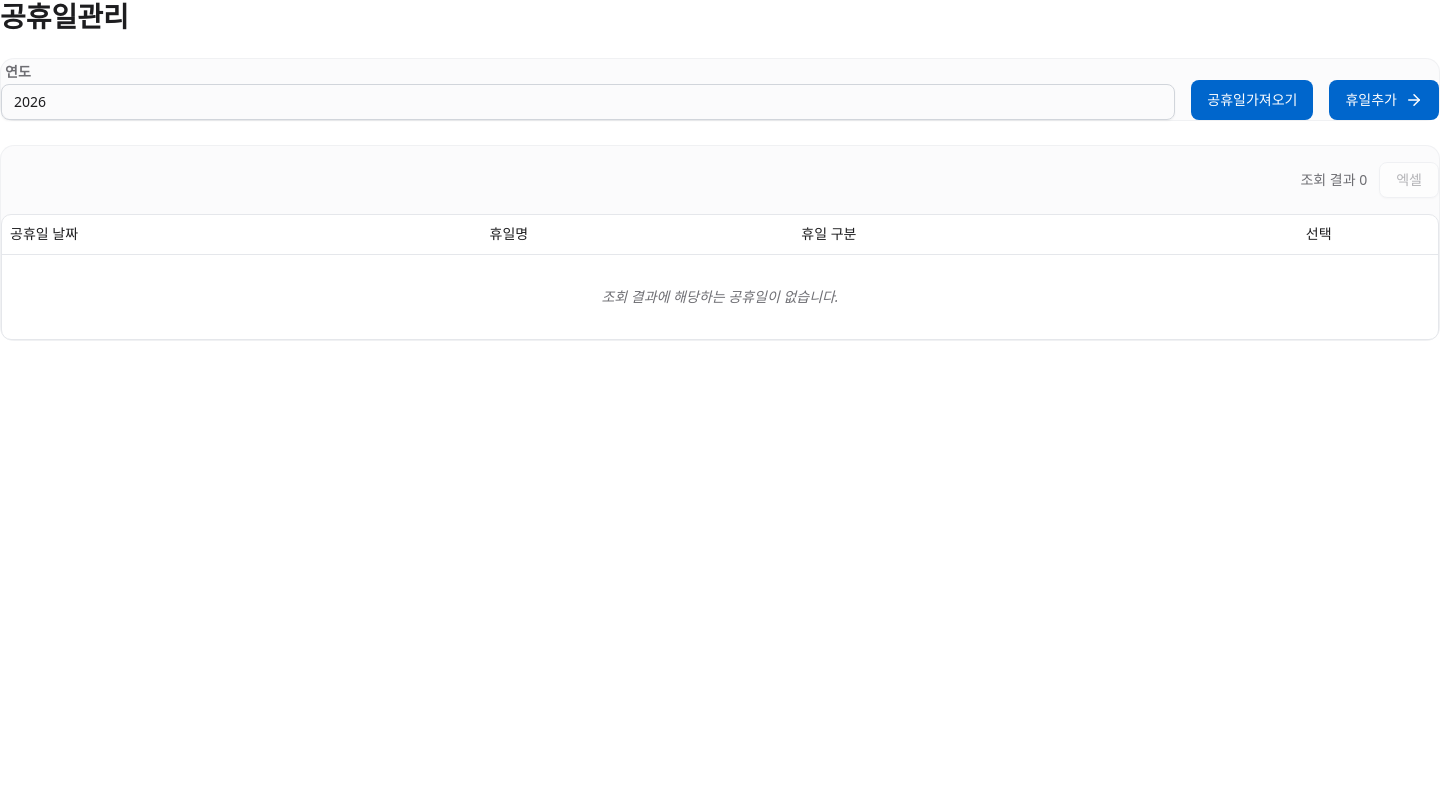
Test: refreshes holidays after saving without changing the selected year
The width and height of the screenshot is (1440, 810).
Click the button "휴일추가" at {"x": 1384, "y": 100}, box [1330,80,1439,120]
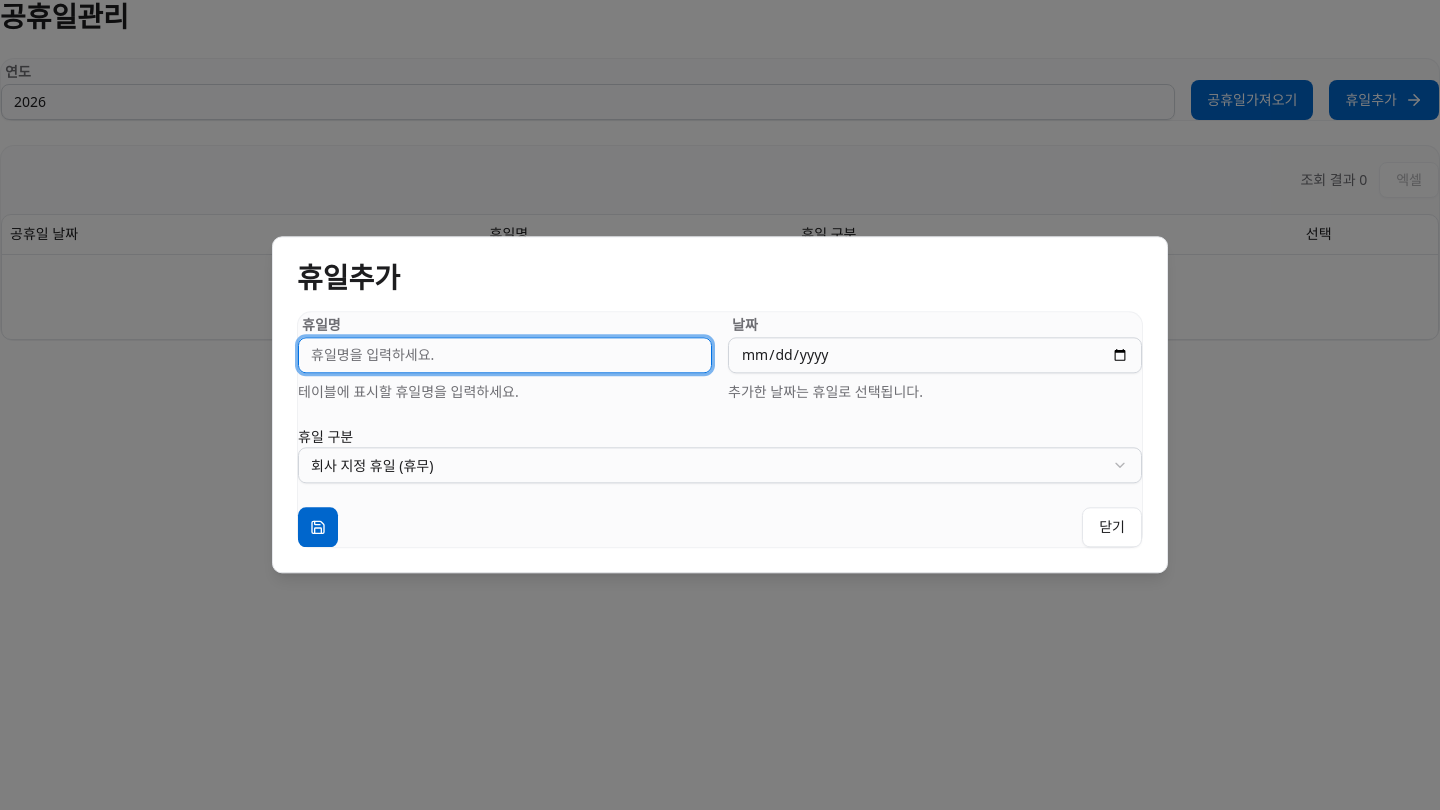
Type "신규휴일" into the field labelled "휴일명" at {"x": 505, "y": 355}, box [298,337,712,373]
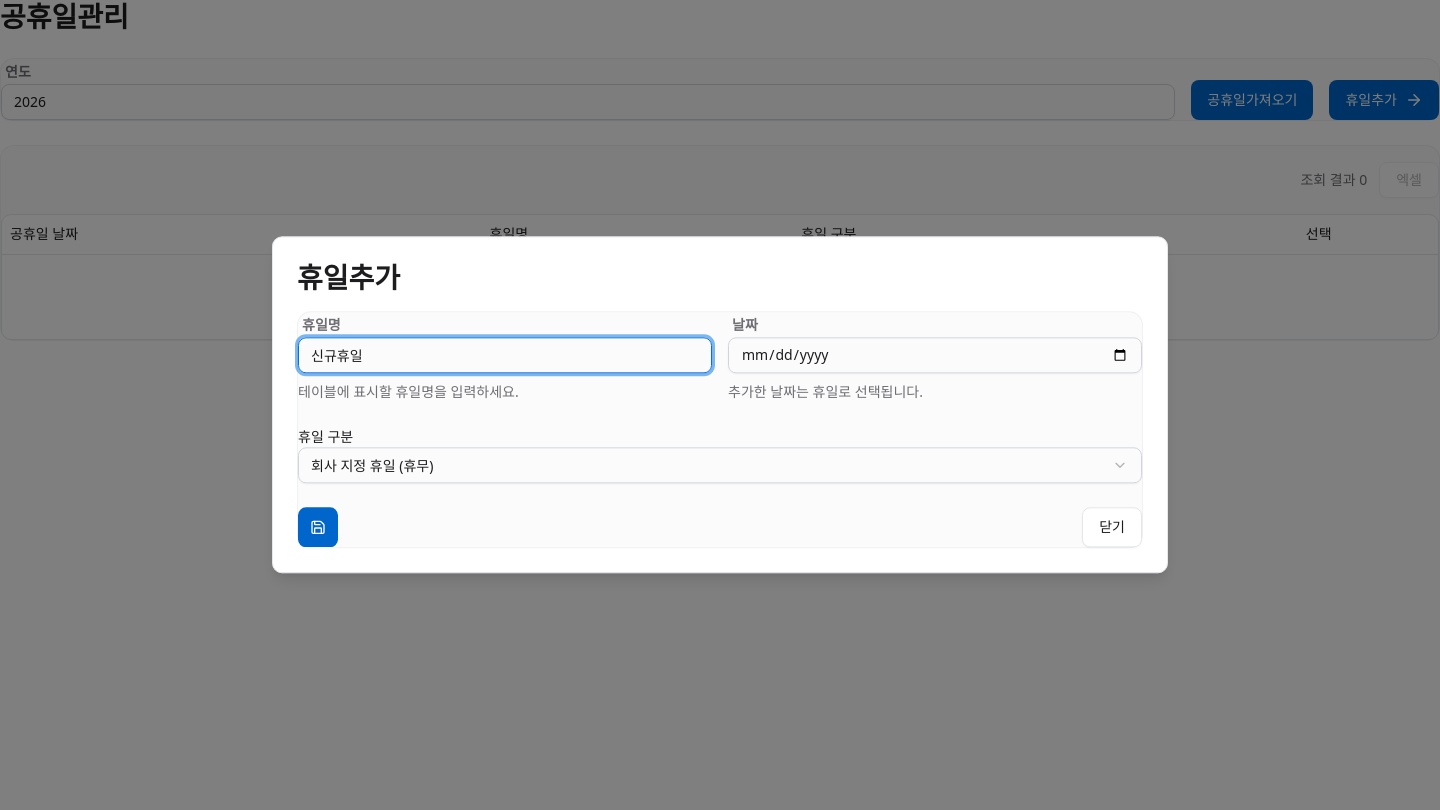
Type "2026-10-03" into the date field labelled "날짜" at {"x": 935, "y": 355}, box [728,337,1142,373]
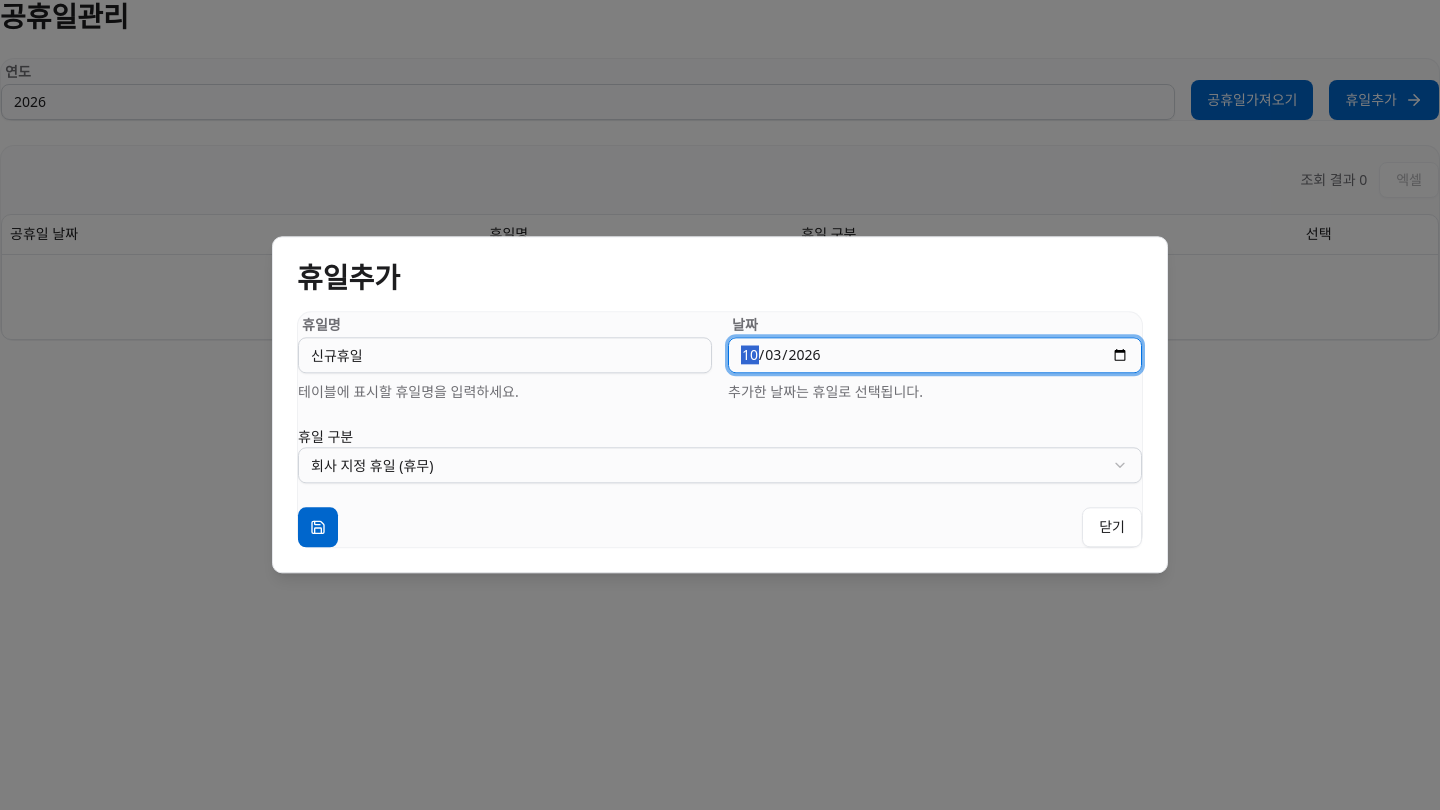
Click the button named "저장" at {"x": 318, "y": 528}, box [298,508,338,548]
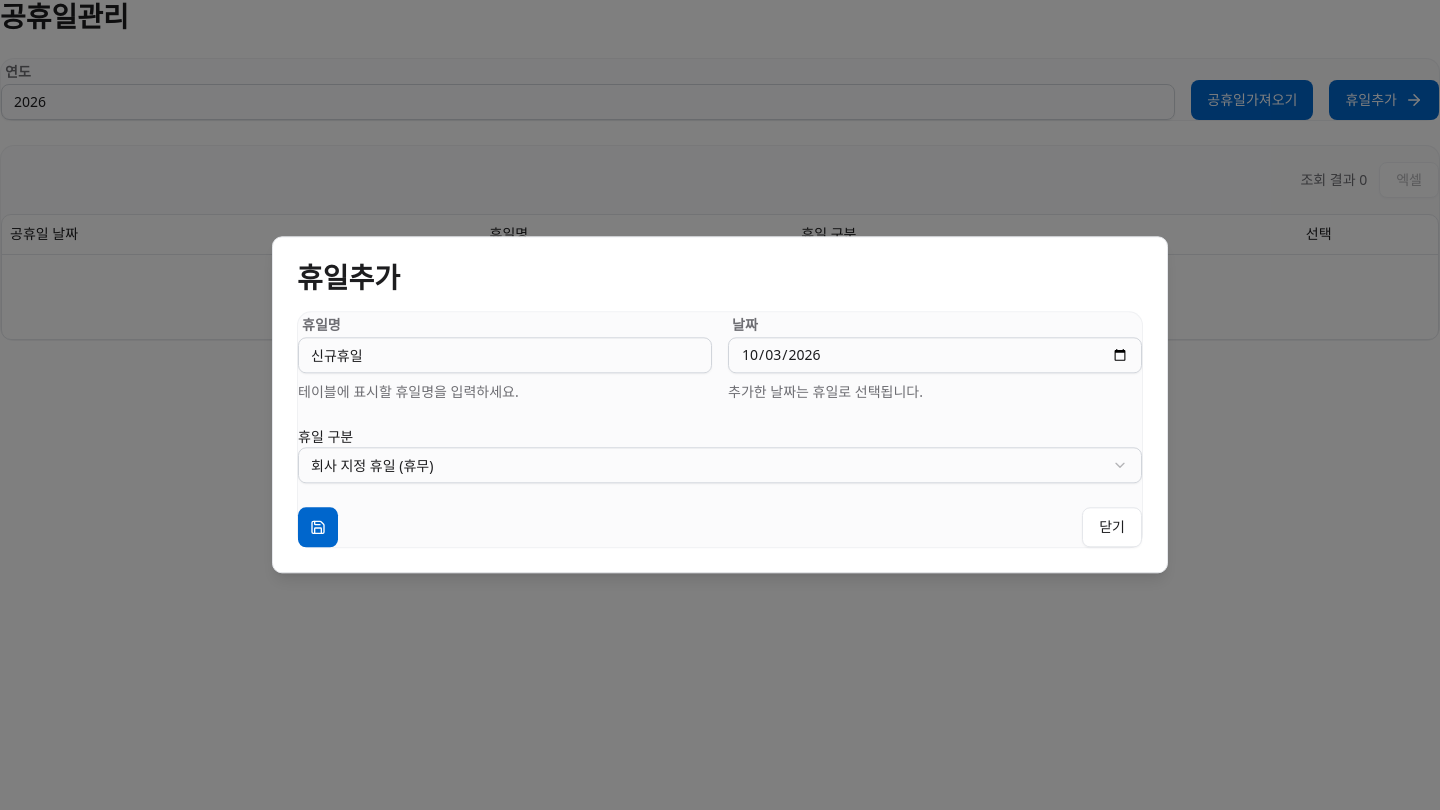
Result: the button named "저장" is enabled at [298,508,338,548]
Result: the dialog "휴일추가" is shown at [272,236,1168,574]
Click the button "닫기" at {"x": 1112, "y": 528}, box [1082,508,1142,548]
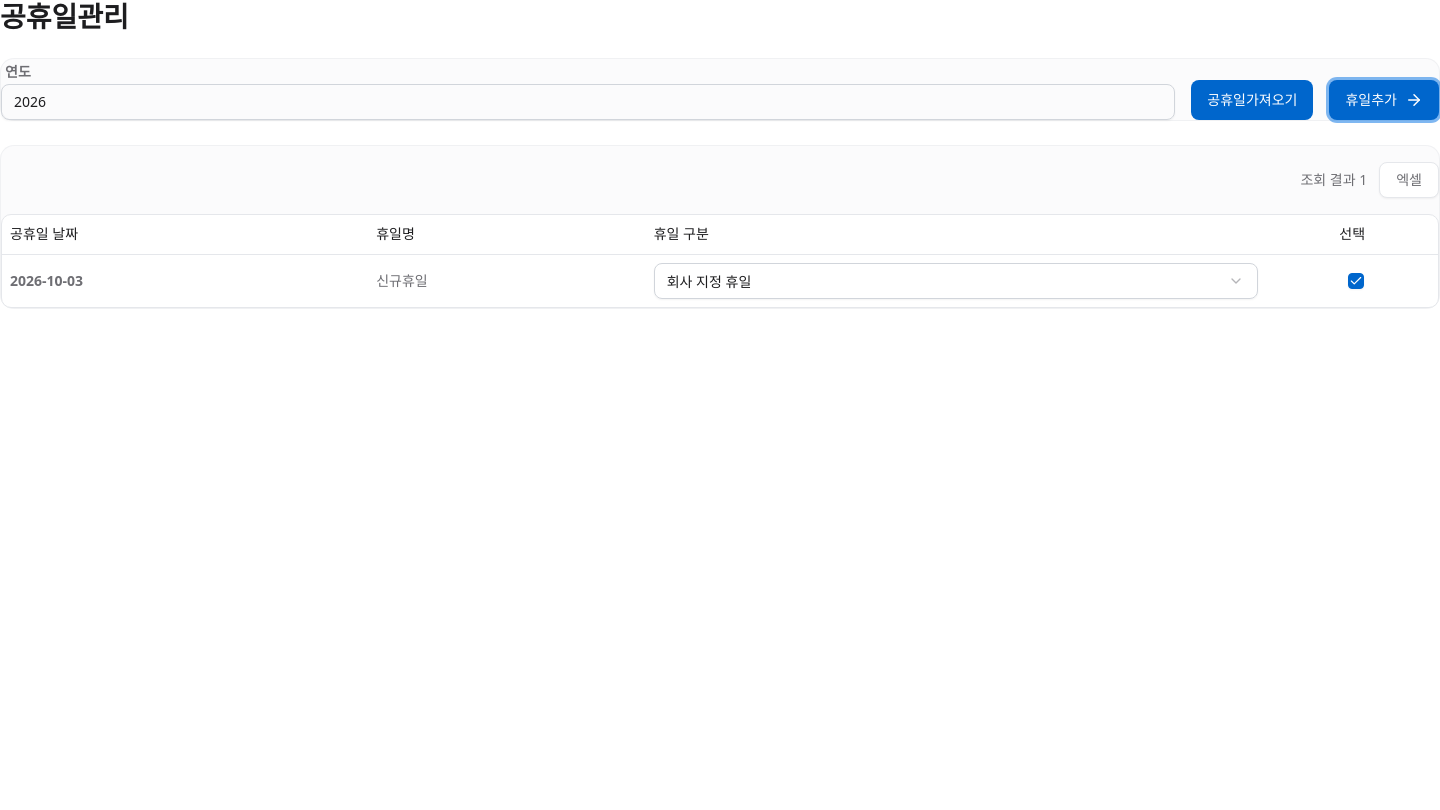
Expected: the number field labelled "연도" holds "2026", [1,84,1175,120]
Result: the text "신규휴일" is shown at [368,255,646,307]
Result: the dialog is gone
